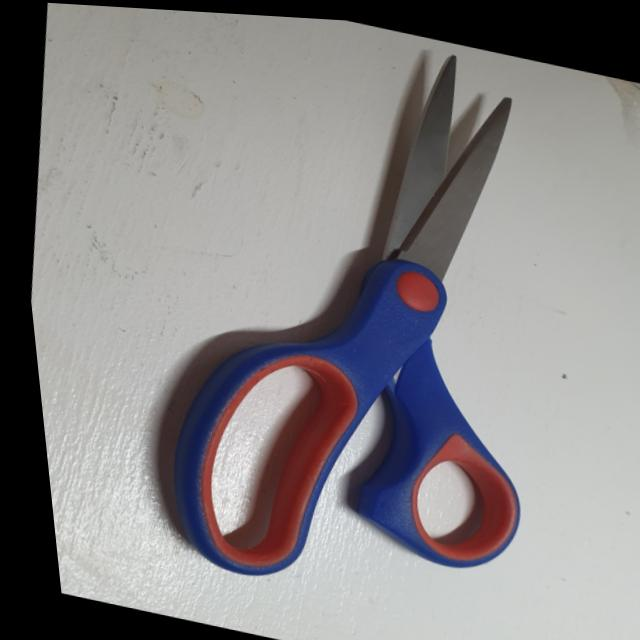scissor: (95, 4, 594, 634)
